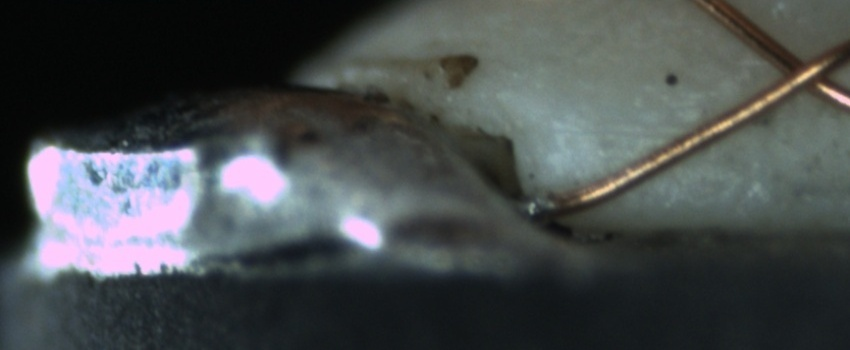CL: (751, 33, 847, 108)
DL: (566, 102, 701, 160)
